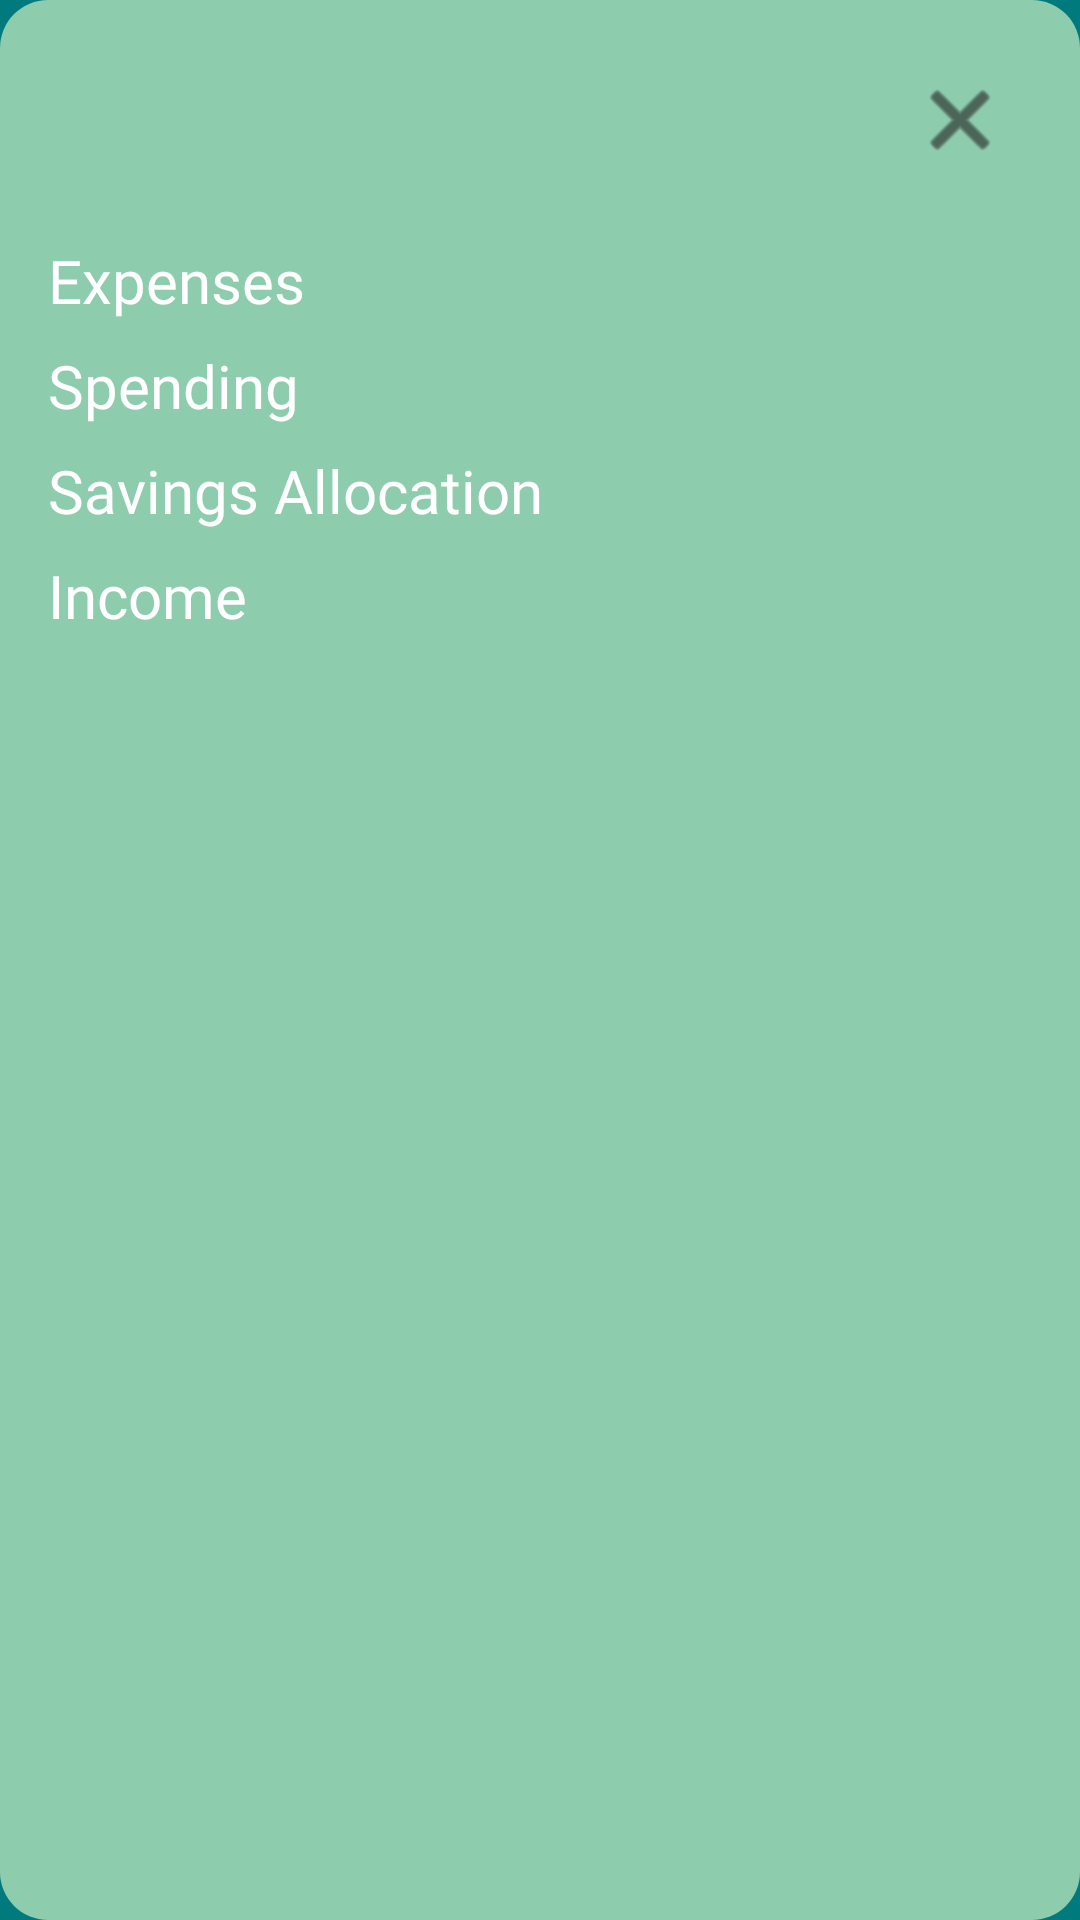

Icons on this 1080w x 1920h Android screen, each with its box as Rect(x1, y1, x2, y2):
Close: Rect(930, 90, 990, 150)
